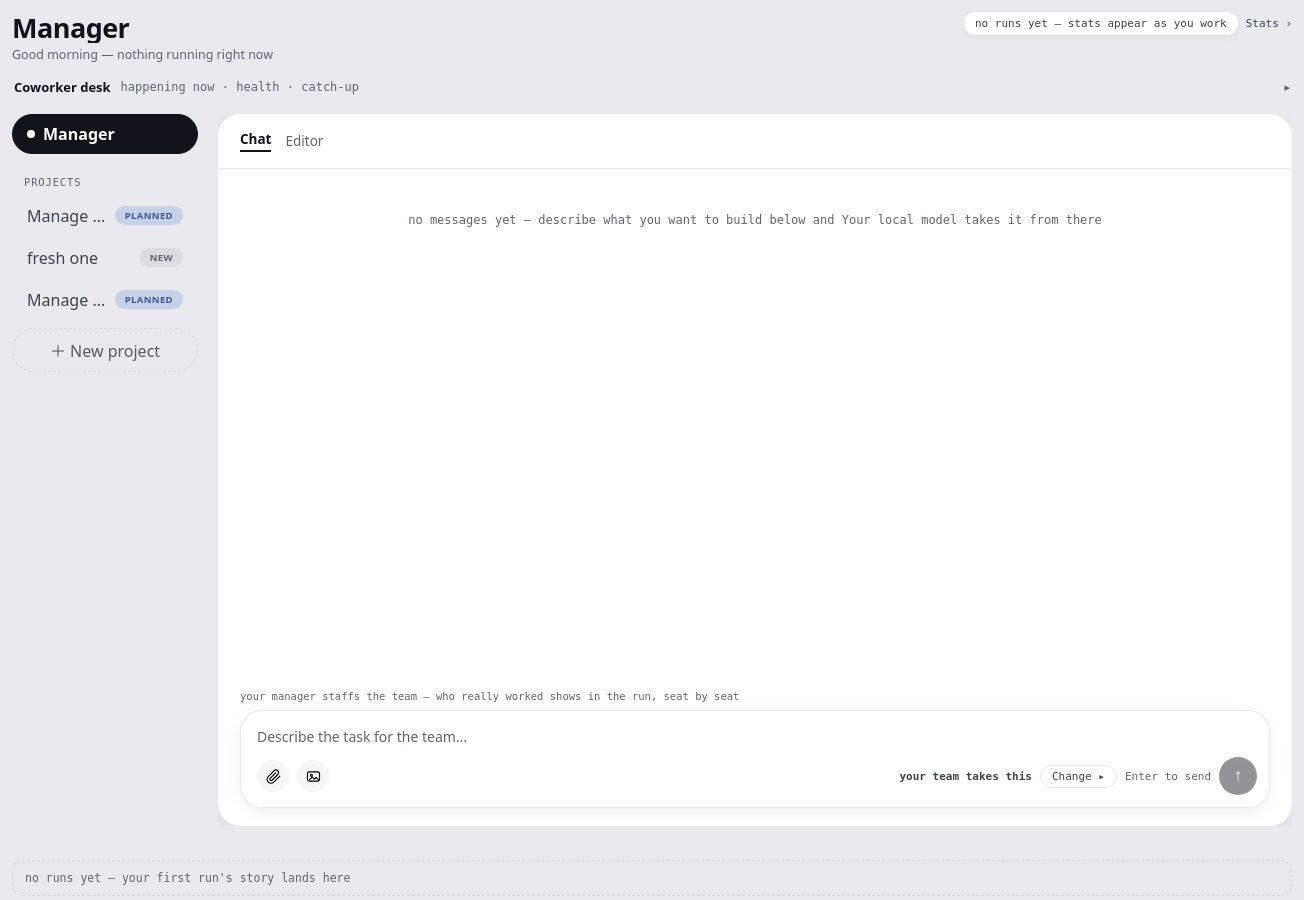
Test: Attach existing uses the folder picker › choosing a folder fills path and defaults the name
The image size is (1304, 900).
Click the button "＋ New project" at point(105, 350), box x1=12 y1=328 x2=198 y2=372
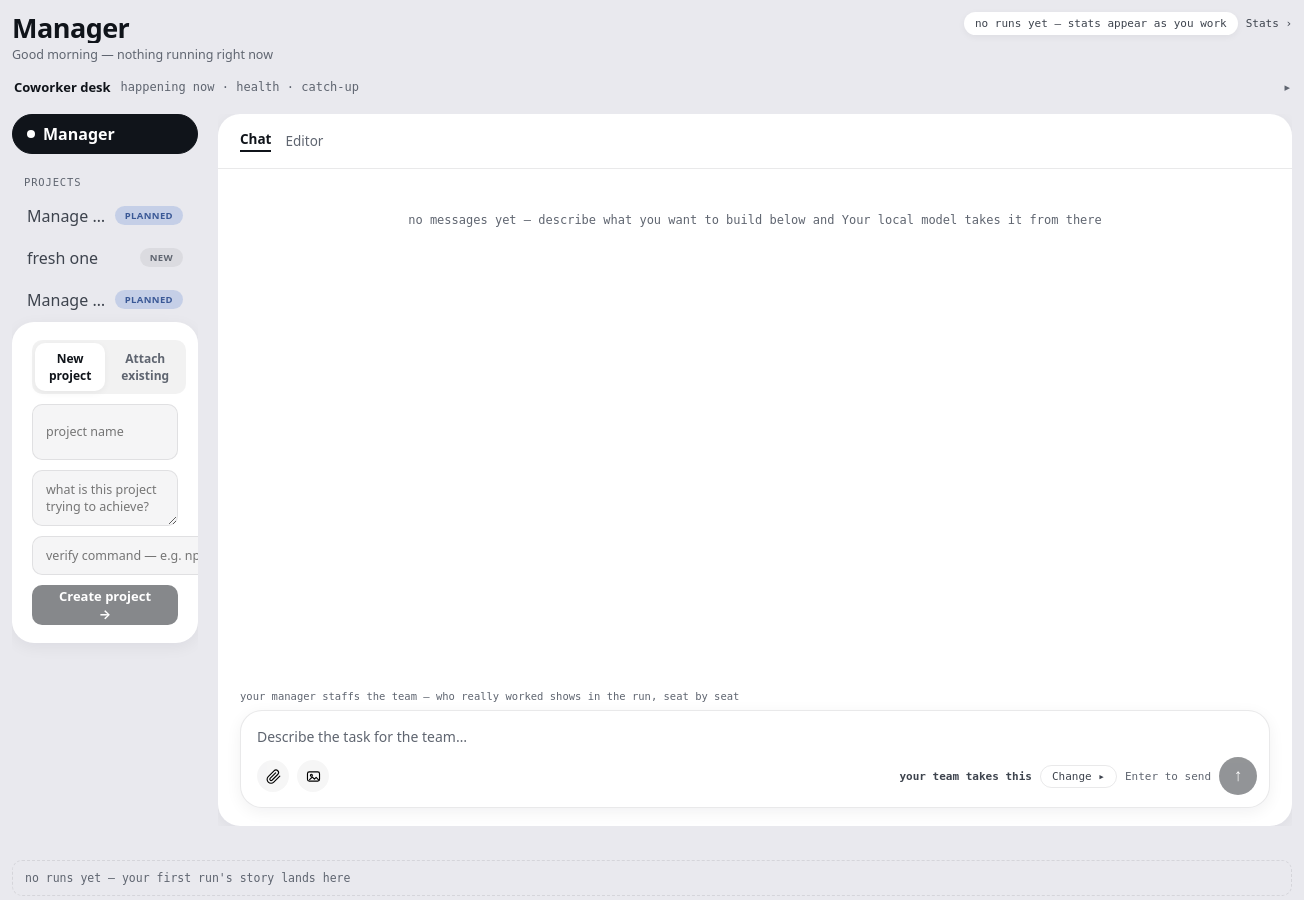
Click the tab "Attach existing" at point(145, 366), box x1=107 y1=342 x2=183 y2=390
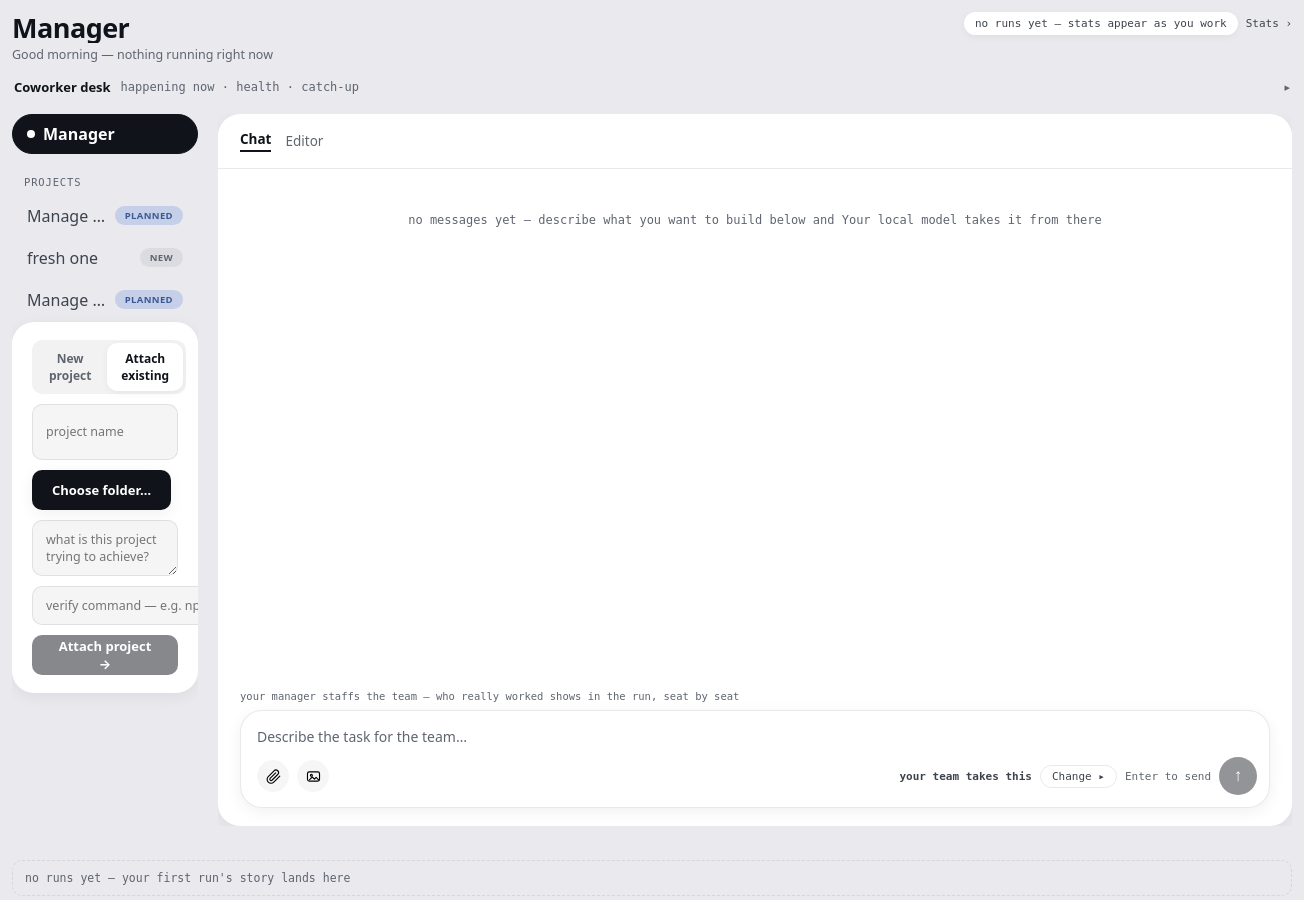
Click the button "Choose folder…" at point(102, 490), box x1=32 y1=470 x2=171 y2=510
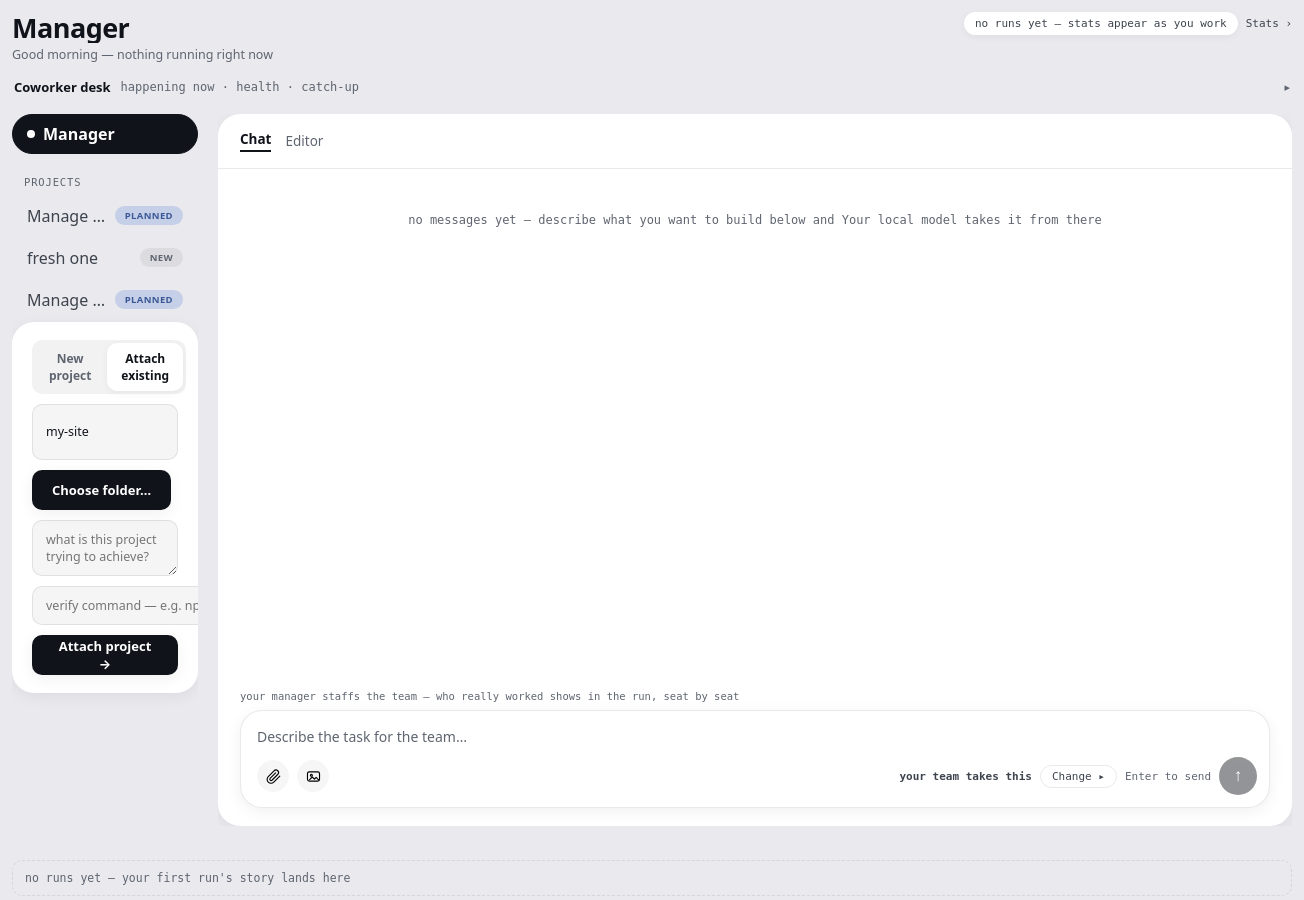
Expected: the field named "project name" holds "my-site", x1=32 y1=404 x2=178 y2=460
